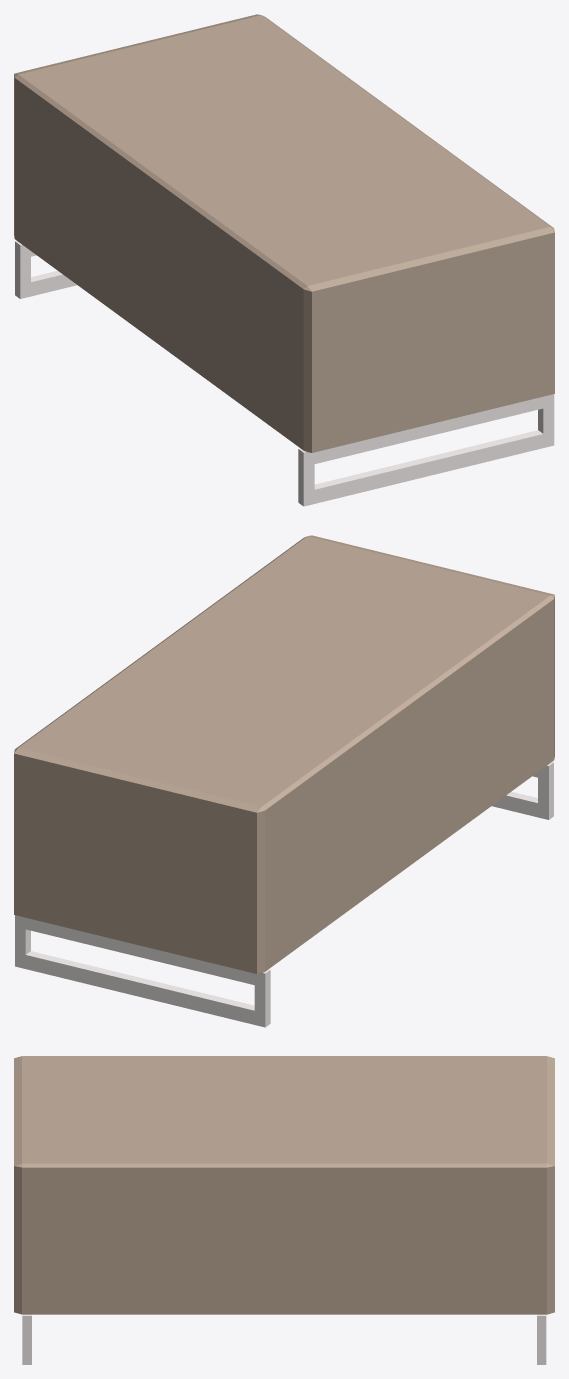
The model's file is pufa.fbx.
3 renders of one model, top to bottom at view 1: azimuth 30°, elevation 25°; view 2: azimuth 150°, elevation 25°; view 3: azimuth 270°, elevation 25°, orthographic. The views are drawn at different scales.
Parts seen in each view (by area): view 1: blat.005, blat.012, blat.010, blat.007, blat.011, blat.008; view 2: blat.005, blat.007, blat.009, blat.012; view 3: blat.005.
Boxes of the visible parts, x1,y1,x2,y2 form: blat.005: (14,14,554,452); blat.012: (298,430,554,506); blat.010: (298,397,543,463); blat.007: (15,270,77,298); blat.011: (298,449,314,492); blat.008: (15,242,30,285); blat.005: (14,535,554,973); blat.007: (15,951,270,1027); blat.009: (15,915,270,987); blat.012: (492,791,553,819); blat.005: (14,1056,554,1314).
Bounding box in the file's own units: 111 × 92.71 × 228.
